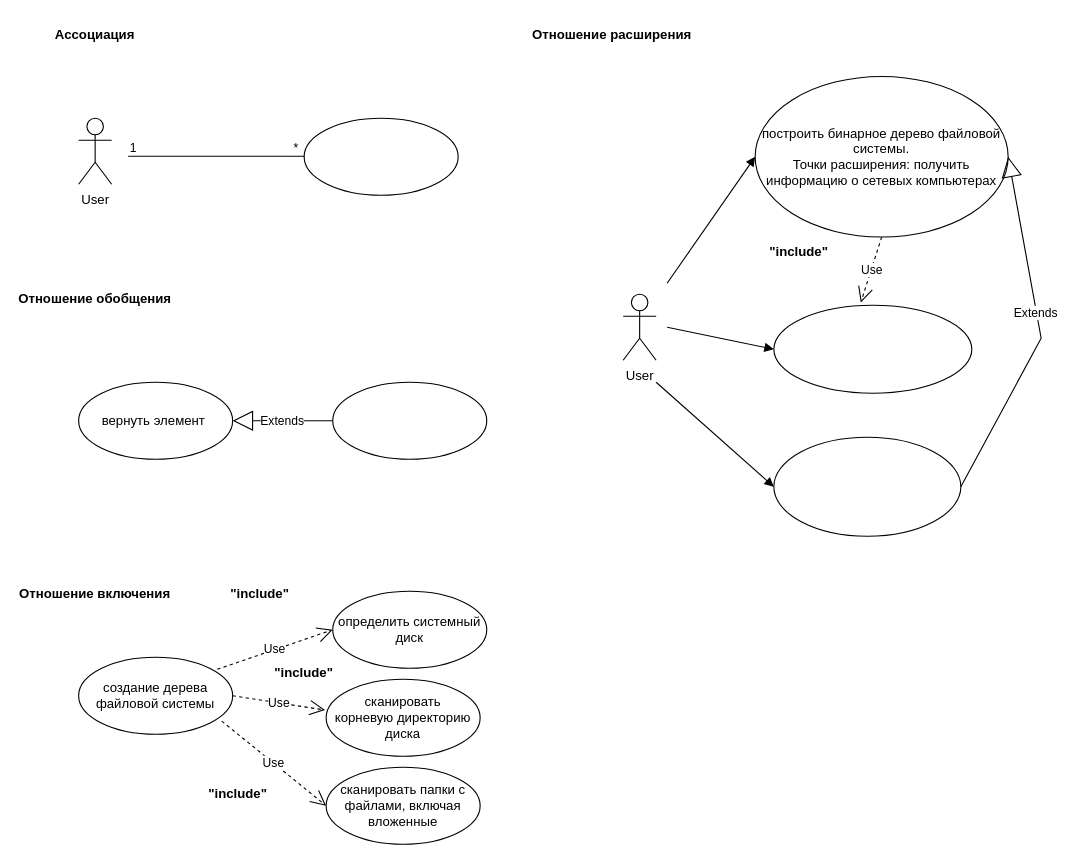
The diagram is 1081 pixels wide and 864 high, and some of its shapes have lost their labels. The shapes that lost their labels are listed below. From the top down, each one's centre as x and y in pixels, then its label:
(380,156): Поиск файлов на диске
(872,348): получить информацию о носителях информации на компьютере пользователя
(409,420): вернуть файл
(867,486): получить информацию о сетевых компьютерах, которые сейчас доступны
